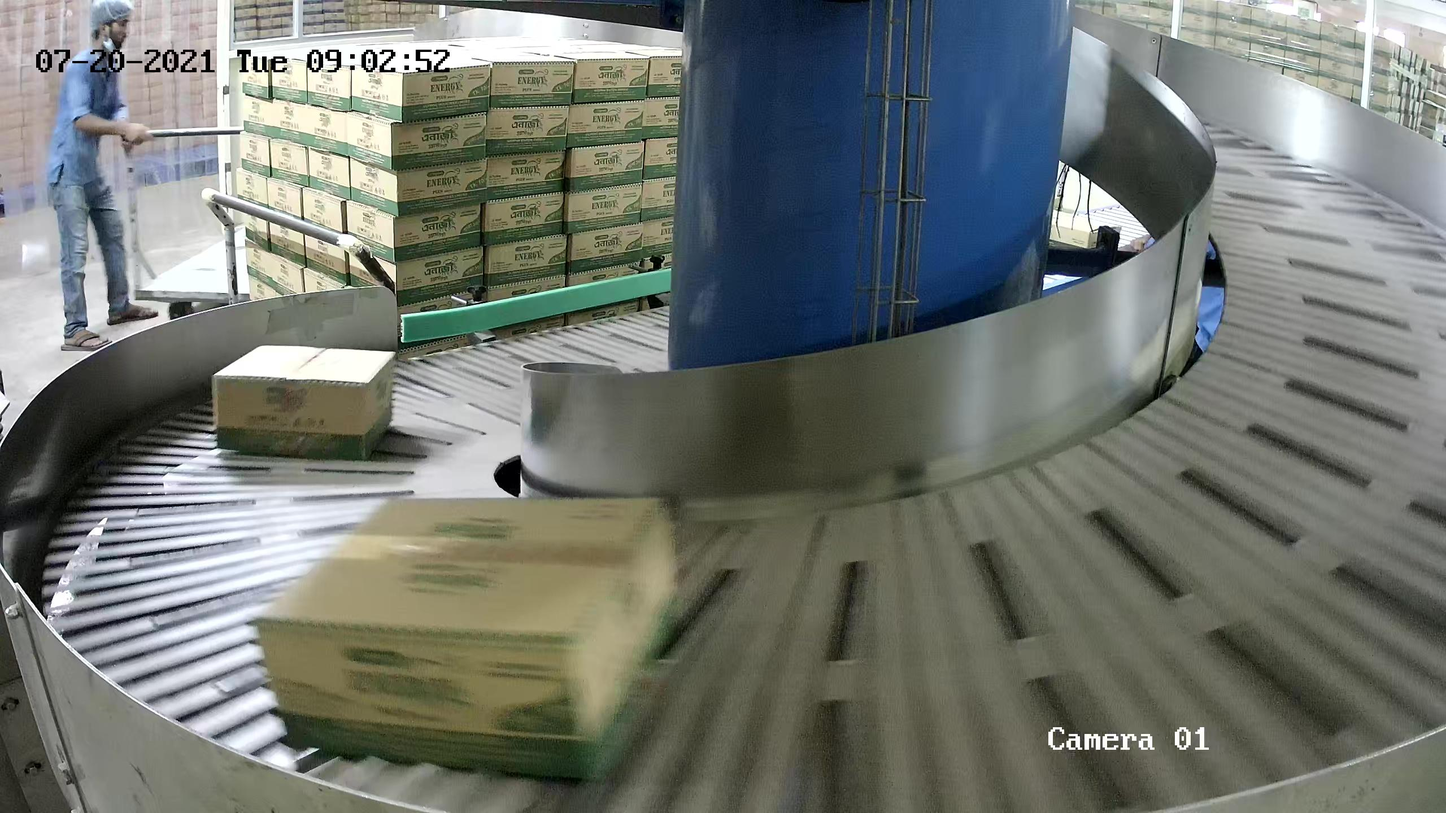Box: (251, 492, 685, 787), (210, 344, 398, 462)
